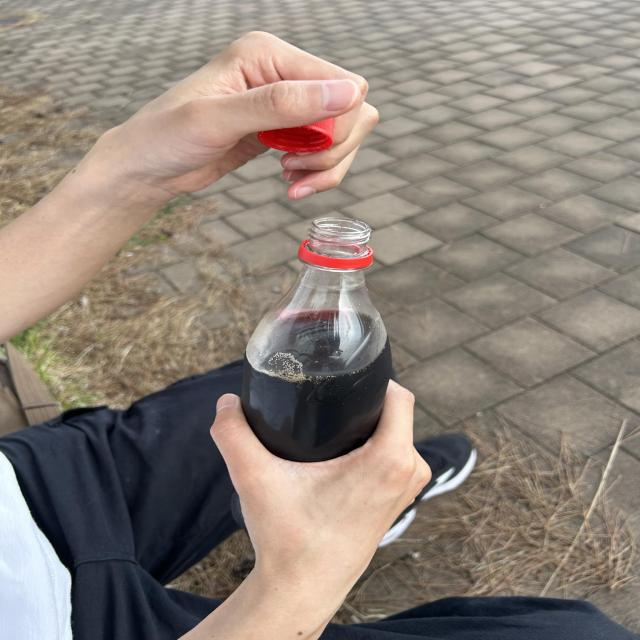high: (241, 217, 391, 462)
